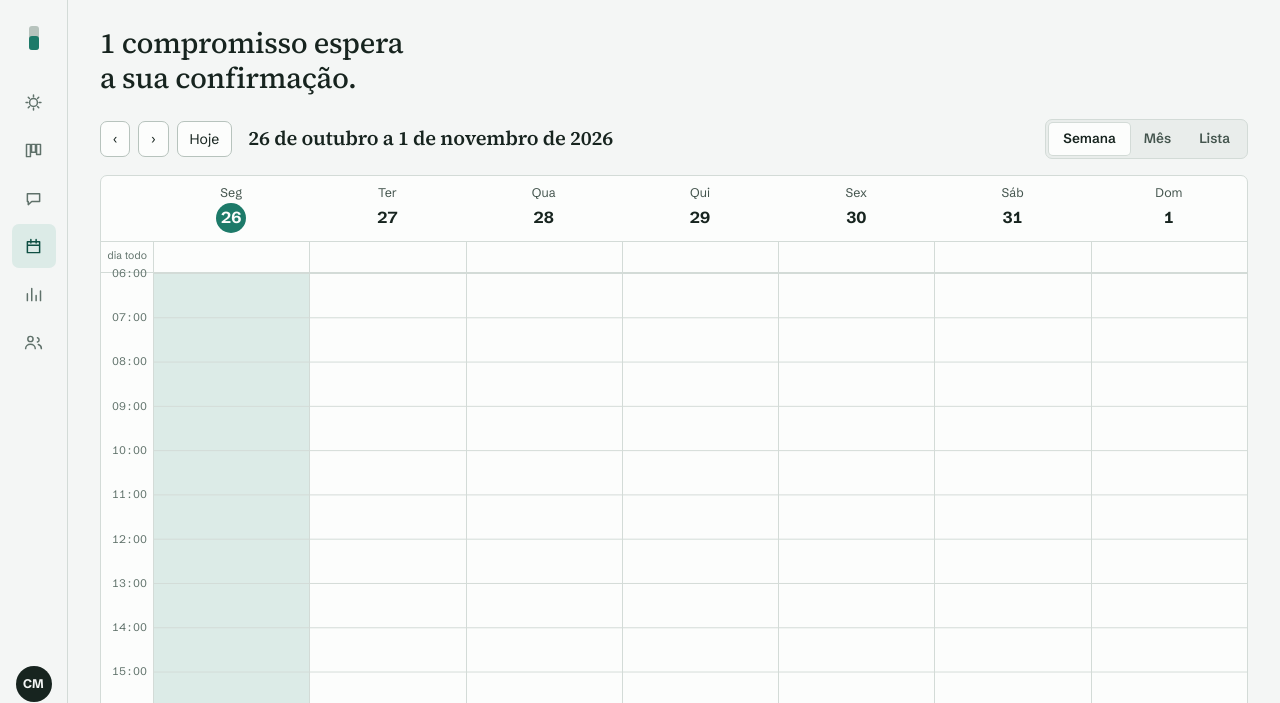
Test: agenda: month and list › shows the month with the appointment on its day and goes to that week on click
The image size is (1280, 703).
Click the button "Mês": [1158, 139] box [1130,123,1185,155]
(page scrolled)
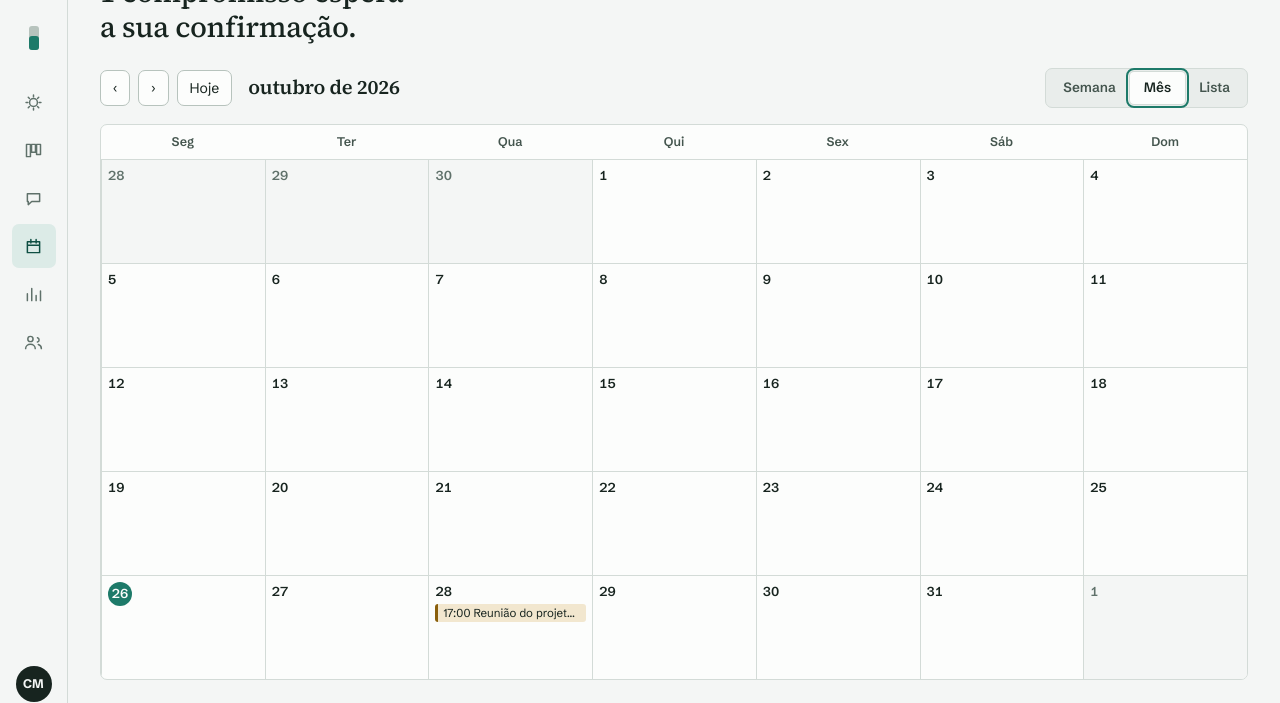
Expected: the text "17:00 Reunião do projeto IE" is shown, [435,604,586,622]
Result: the heading "outubro de 2026" is shown at [248,73,400,102]
Click the button with aria-label "28 de outubro": [510, 627] box [428,575,592,679]
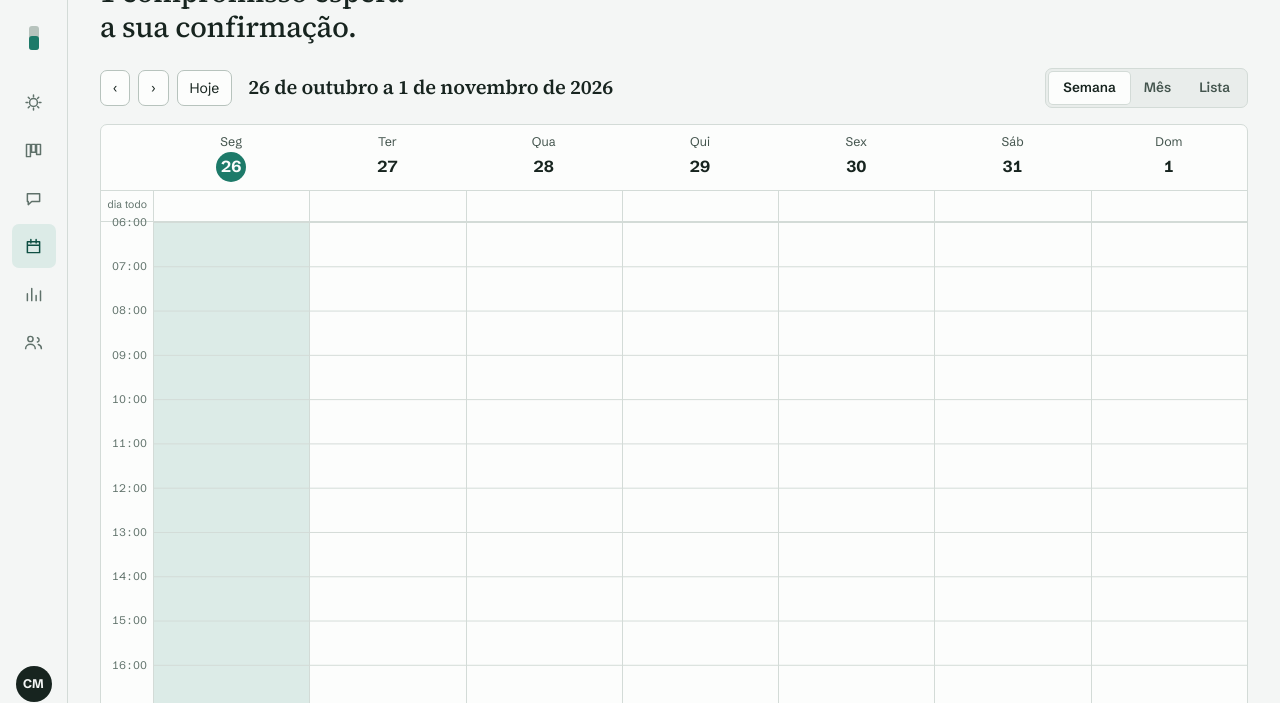
Result: the heading "26 de outubro a 1 de novembro de 2026" is shown at [248,73,613,102]
